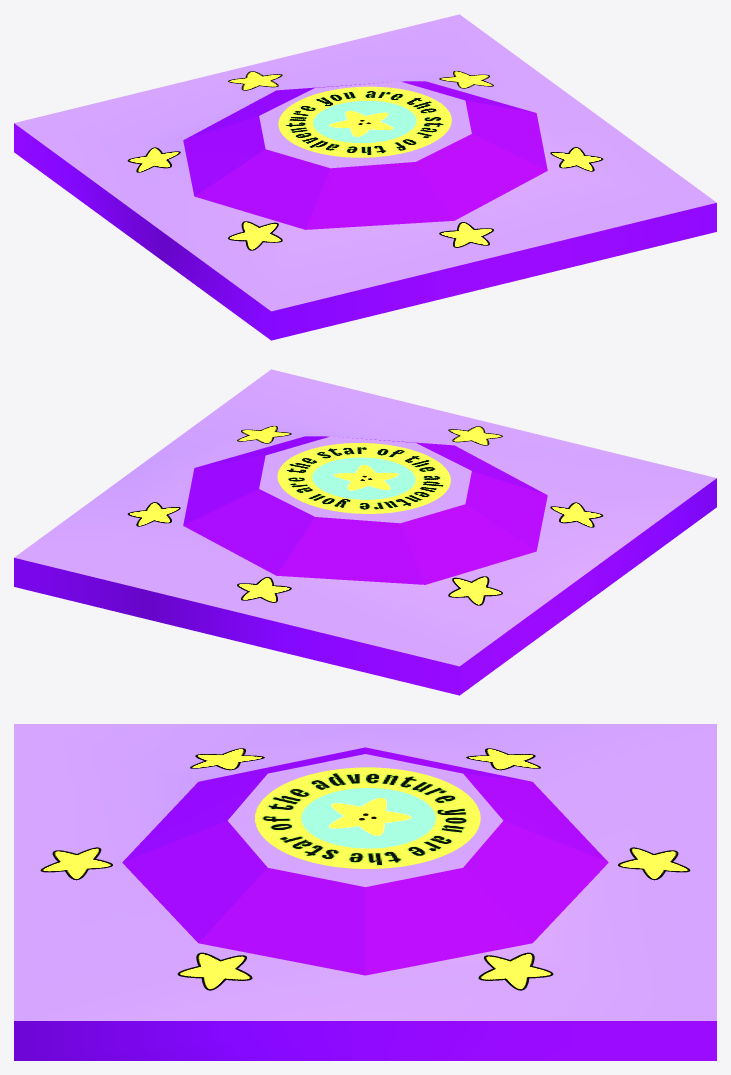
File: cocobay_centrebump.gltf
The picture shows the model from 3 angles, top to bottom: view 1: azimuth 30°, elevation 25°; view 2: azimuth 150°, elevation 25°; view 3: azimuth 270°, elevation 25°; orthographic projection. The views are drawn at different scales.
Visible parts, largest first — view 1: cocobay_centrebump_glb; view 2: cocobay_centrebump_glb; view 3: cocobay_centrebump_glb.
Part boxes in pixels (x1,y1,x2,y2): cocobay_centrebump_glb: (14, 14, 716, 340); cocobay_centrebump_glb: (14, 369, 716, 695); cocobay_centrebump_glb: (14, 724, 716, 1060).
Size of what is drawn, in the model's own units: 4 by 0.5929 by 4.
Materials: 2 (2 with a texture image).
